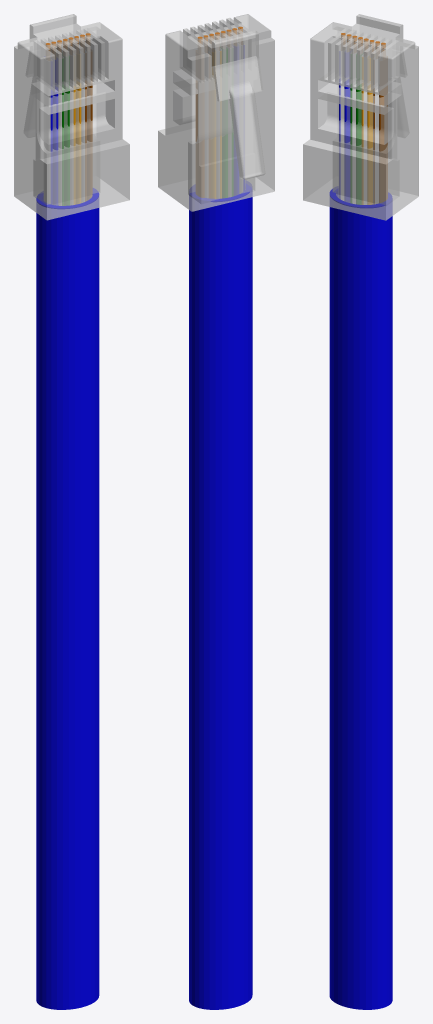
The model's file is rj45_cable.fbx.
3 renders of one model, left to right at view 1: azimuth 30°, elevation 25°; view 2: azimuth 210°, elevation 25°; view 3: azimuth 330°, elevation 25°, orthographic.
Parts seen in each view (by area): view 1: Main Cable, RJ45, Blue/White, Green/White, Green, Brown/White, Brown, Orange/White, Blue, Orange; view 2: Main Cable, RJ45, Brown, Orange/White, Green, Green/White, Brown/White, Orange; view 3: Main Cable, RJ45, Brown, Blue, Orange, Green, Orange/White, Green/White, Blue/White, Brown/White.
Boxes of the visible parts, left/top/right/bottom form: Main Cable: left=36, top=188, right=99, bottom=1009; RJ45: left=14, top=14, right=129, bottom=220; Blue/White: left=43, top=59, right=52, bottom=204; Green/White: left=58, top=58, right=63, bottom=205; Green: left=64, top=57, right=69, bottom=205; Brown/White: left=81, top=53, right=86, bottom=202; Brown: left=87, top=51, right=92, bottom=200; Orange/White: left=70, top=83, right=75, bottom=204; Blue: left=52, top=60, right=58, bottom=205; Orange: left=75, top=81, right=81, bottom=203; Main Cable: left=189, top=183, right=252, bottom=1009; RJ45: left=158, top=14, right=274, bottom=211; Brown: left=195, top=80, right=204, bottom=197; Orange/White: left=216, top=51, right=221, bottom=198; Green: left=222, top=49, right=227, bottom=197; Green/White: left=228, top=133, right=233, bottom=197; Brown/White: left=205, top=138, right=210, bottom=197; Orange: left=211, top=52, right=215, bottom=198; Main Cable: left=329, top=188, right=392, bottom=1009; RJ45: left=303, top=14, right=418, bottom=220; Brown: left=379, top=86, right=387, bottom=202; Blue: left=344, top=79, right=350, bottom=202; Orange: left=367, top=58, right=372, bottom=204; Green: left=356, top=55, right=361, bottom=204; Orange/White: left=361, top=57, right=367, bottom=204; Green/White: left=350, top=81, right=355, bottom=203; Blue/White: left=338, top=51, right=344, bottom=200; Brown/White: left=373, top=86, right=378, bottom=204.
Size of the model in its own units: 116 by 1290 by 133.
